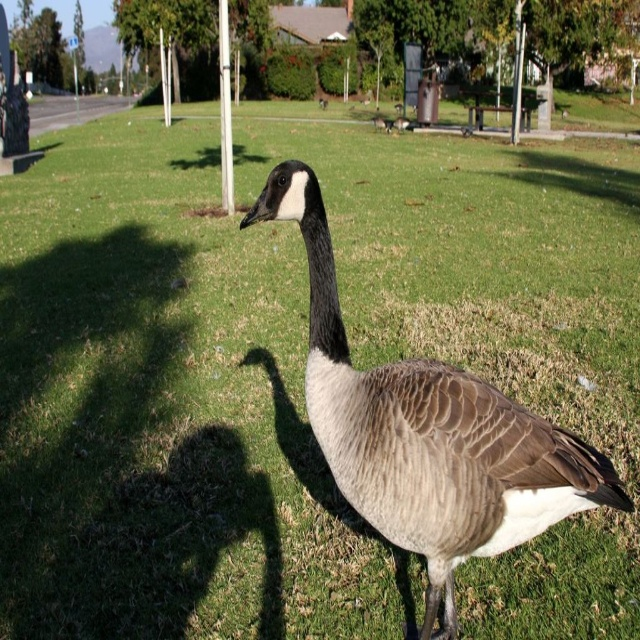Goose: (240, 157, 638, 639)
